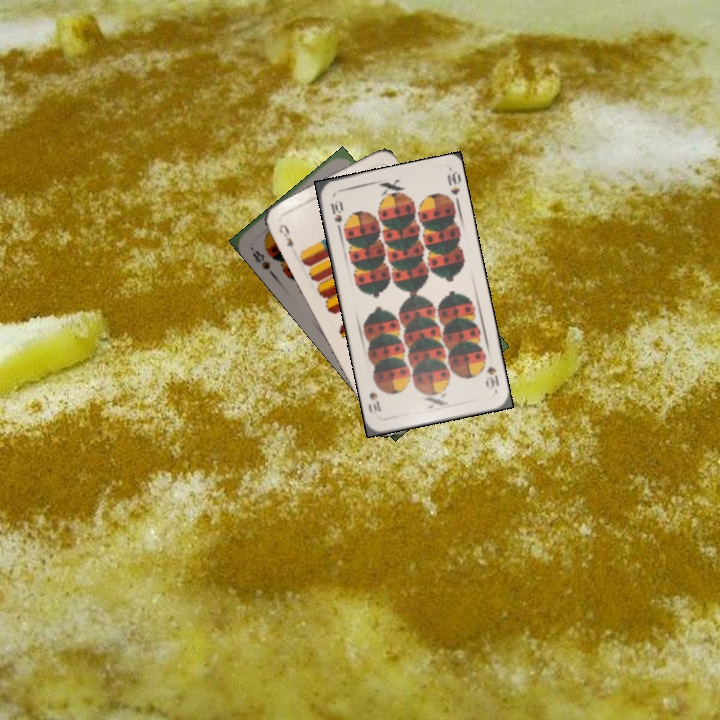E9: (275, 220, 296, 249)
S10: (327, 196, 345, 234), (482, 362, 502, 390)
S8: (248, 246, 276, 277)
